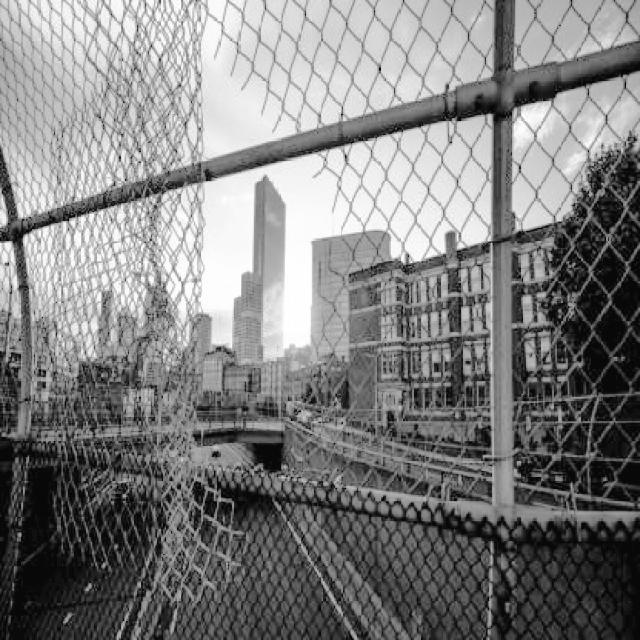anomaly-fence: (127, 18, 418, 613)
